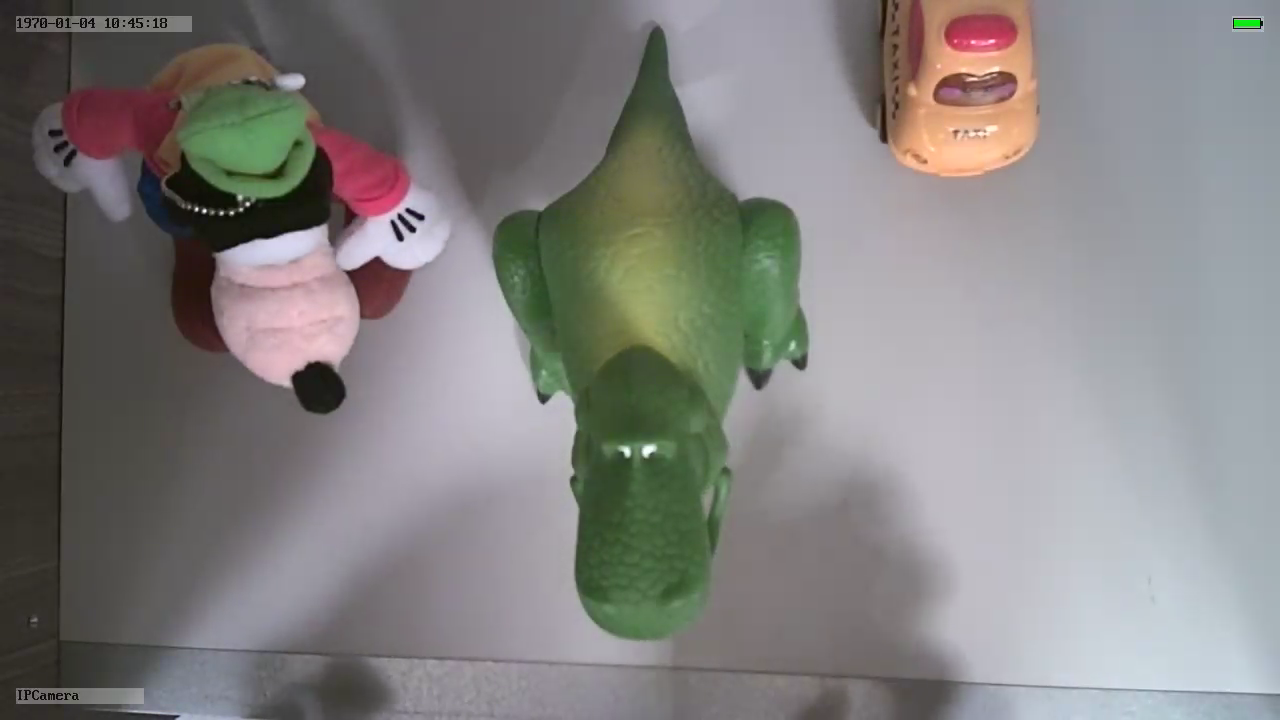goofy: (24, 39, 456, 415)
